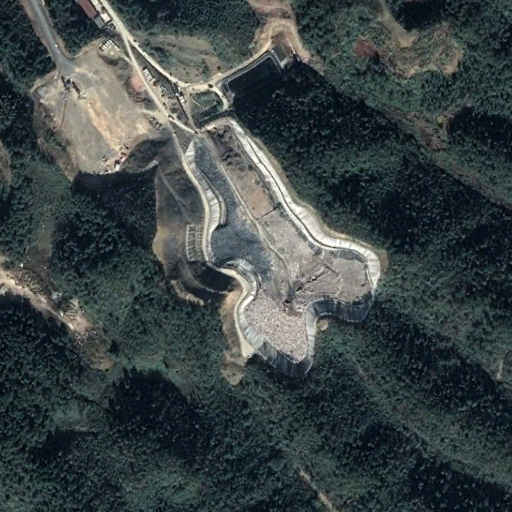lf: (183, 122, 384, 372)
